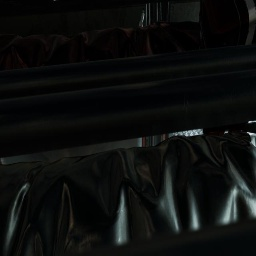0: (139, 10, 144, 27)
FirstAidBox ,: (198, 0, 256, 136)
